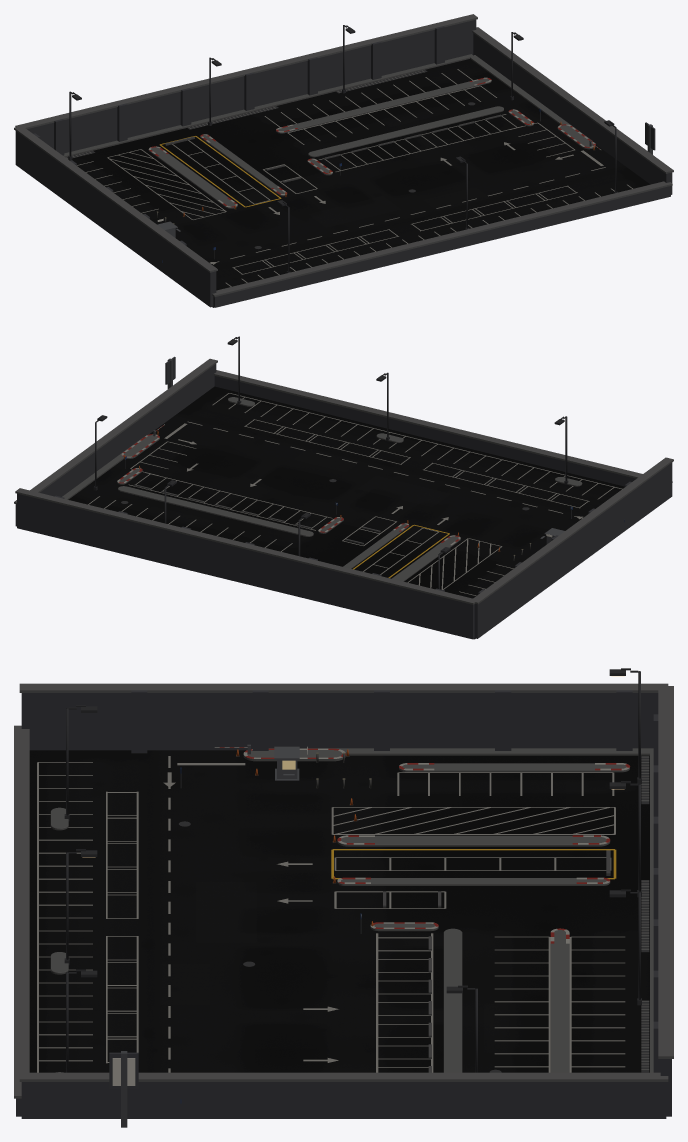
File: lot.glb
The picture shows the model from 3 angles, top to bottom: view 1: azimuth 30°, elevation 25°; view 2: azimuth 150°, elevation 25°; view 3: azimuth 270°, elevation 25°; orthographic projection. The views are drawn at different scales.
Parts seen in each view (by area): view 1: lot_lot_asphalt_tex.001, lot_lot_wall.001, lot_lot_coping.001, lot_lot_kerb.001, lot_lot_paint_w.001, lot_lot_pole.001, lot_lot_stripe_w.001, lot_lot_grate.001, lot_lot_wheelstop.001, lot_lot_paint_y.001; view 2: lot_lot_asphalt_tex.001, lot_lot_wall.001, lot_lot_coping.001, lot_lot_paint_w.001, lot_lot_kerb.001, lot_lot_pole.001, lot_lot_stripe_w.001; view 3: lot_lot_asphalt_tex.001, lot_lot_wall.001, lot_lot_coping.001, lot_lot_kerb.001, lot_lot_paint_w.001, lot_lot_pole.001, lot_lot_stripe_w.001, lot_lot_grate.001, lot_lot_paint_y.001, lot_lot_steel.001.
Part boxes in pixels (x1,y1,x2,y2): lot_lot_asphalt_tex.001: [68, 55, 649, 290]; lot_lot_wall.001: [15, 19, 672, 307]; lot_lot_coping.001: [14, 14, 673, 297]; lot_lot_kerb.001: [63, 54, 595, 208]; lot_lot_paint_w.001: [77, 69, 632, 286]; lot_lot_pole.001: [68, 25, 617, 273]; lot_lot_stripe_w.001: [148, 77, 595, 207]; lot_lot_grate.001: [67, 70, 475, 249]; lot_lot_wheelstop.001: [165, 114, 501, 182]; lot_lot_paint_y.001: [159, 136, 281, 207]; lot_lot_asphalt_tex.001: [68, 386, 624, 598]; lot_lot_wall.001: [15, 364, 672, 639]; lot_lot_coping.001: [14, 358, 673, 604]; lot_lot_paint_w.001: [88, 393, 622, 595]; lot_lot_kerb.001: [62, 397, 582, 581]; lot_lot_pole.001: [93, 336, 568, 589]; lot_lot_stripe_w.001: [117, 434, 460, 545]; lot_lot_asphalt_tex.001: [29, 750, 649, 1072]; lot_lot_wall.001: [16, 690, 671, 1118]; lot_lot_coping.001: [14, 683, 673, 1098]; lot_lot_kerb.001: [50, 748, 653, 1072]; lot_lot_paint_w.001: [37, 756, 625, 1072]; lot_lot_pole.001: [64, 668, 641, 1072]; lot_lot_stripe_w.001: [243, 748, 630, 943]; lot_lot_grate.001: [179, 756, 649, 1072]; lot_lot_paint_y.001: [331, 849, 616, 879]; lot_lot_steel.001: [121, 744, 361, 1127].
Size of what is drawn, in the model's own units: 47.78 by 6.8 by 34.82.
26 materials, 1 textured.
